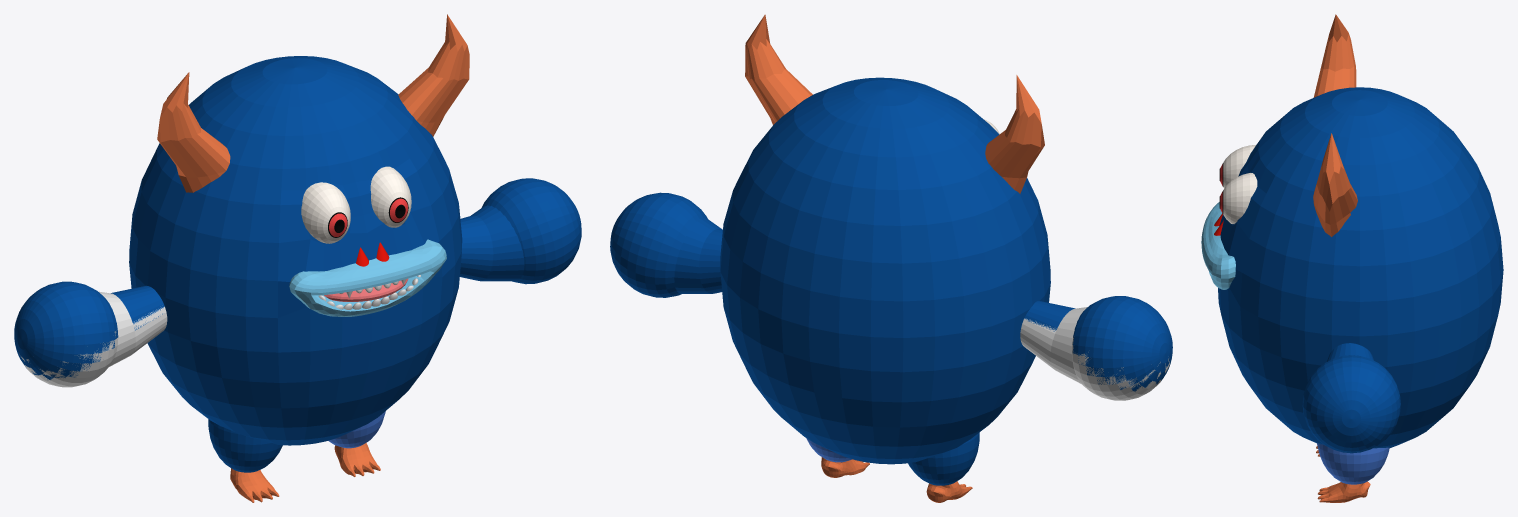
Rendered from mozzy.fbx.
The picture shows the model from 3 angles, left to right: view 1: azimuth 30°, elevation 25°; view 2: azimuth 150°, elevation 25°; view 3: azimuth 270°, elevation 25°; orthographic projection. The views are drawn at different scales.
Visible parts, largest first — view 1: Sphere.002, Sphere.006, Dragon.003, Dragon.002, Sphere.008, Cylinder.002, Sphere.004, Dragon.001, Dragon, Sphere.010; view 2: Sphere.002, Dragon.003, Dragon.002, Cylinder.002, Sphere.004, Dragon, Dragon.001; view 3: Sphere.002, Dragon.002, Dragon.003, Sphere.008, Sphere.006, Dragon.
Boxes of the visible parts, <box> form: Sphere.002: <box>14,56,581,472</box>; Sphere.006: <box>289,239,446,316</box>; Dragon.003: <box>157,72,230,192</box>; Dragon.002: <box>398,14,469,136</box>; Sphere.008: <box>301,166,411,243</box>; Cylinder.002: <box>98,291,167,366</box>; Sphere.004: <box>21,331,118,387</box>; Dragon.001: <box>230,468,279,502</box>; Dragon: <box>334,443,380,476</box>; Sphere.010: <box>324,278,408,301</box>; Sphere.002: <box>610,77,1172,485</box>; Dragon.003: <box>985,75,1044,193</box>; Dragon.002: <box>745,14,812,124</box>; Cylinder.002: <box>1020,307,1087,384</box>; Sphere.004: <box>1072,336,1169,400</box>; Dragon: <box>821,457,869,477</box>; Dragon.001: <box>926,481,972,502</box>; Sphere.002: <box>1218,87,1503,484</box>; Dragon.002: <box>1313,133,1357,236</box>; Dragon.003: <box>1313,14,1356,97</box>; Sphere.008: <box>1223,145,1257,223</box>; Sphere.006: <box>1201,202,1235,289</box>; Dragon: <box>1317,481,1370,502</box>.
Bounding box in the file's own units: 448 × 341 × 229.
